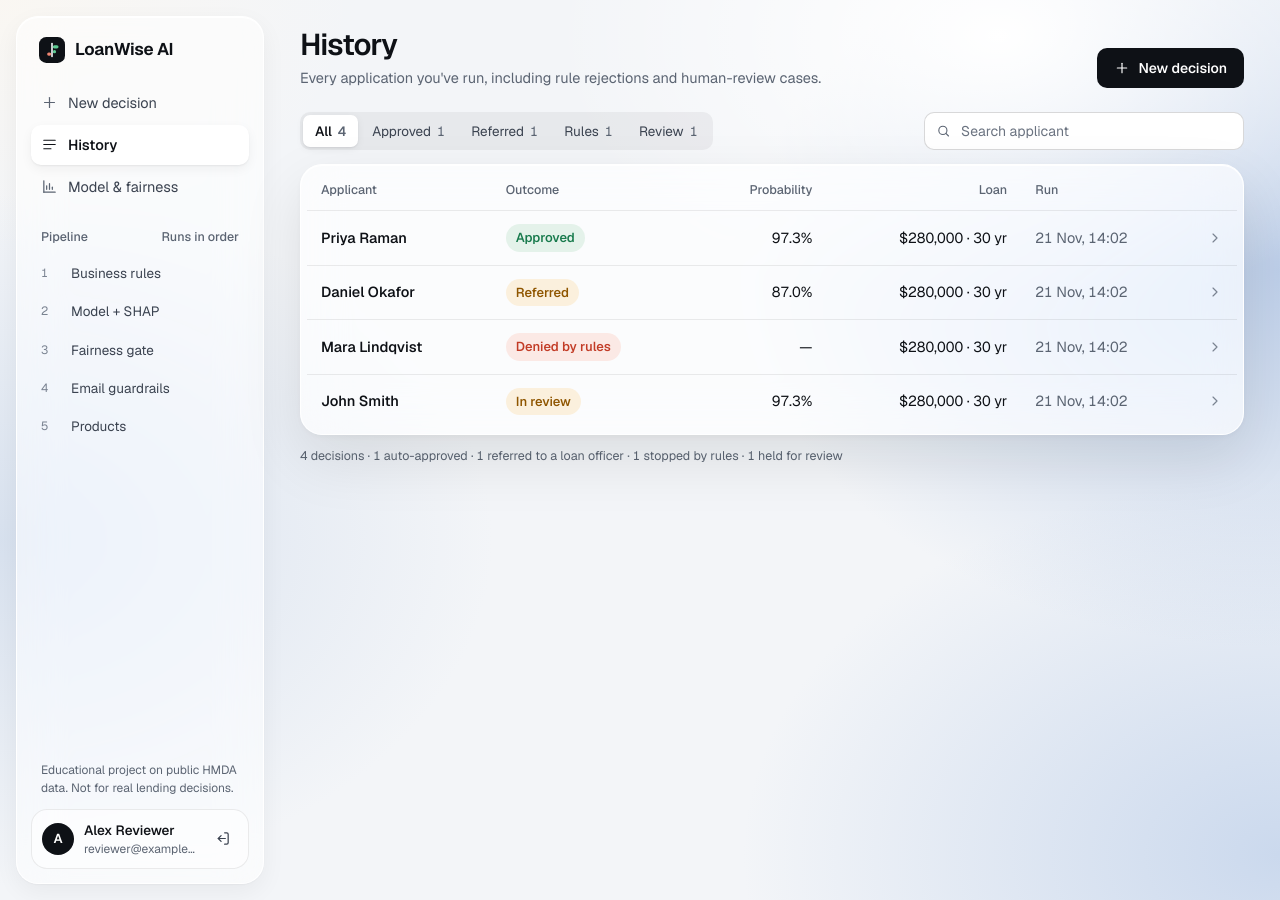
History › explains when a search matches nothing and can clear it
The width and height of the screenshot is (1280, 900).
Check: the link "Priya Raman" is shown, box [321,228,407,247]
In the search field labelled "Search applicant": (1084, 131) [924,112,1244,150], type "zzz"
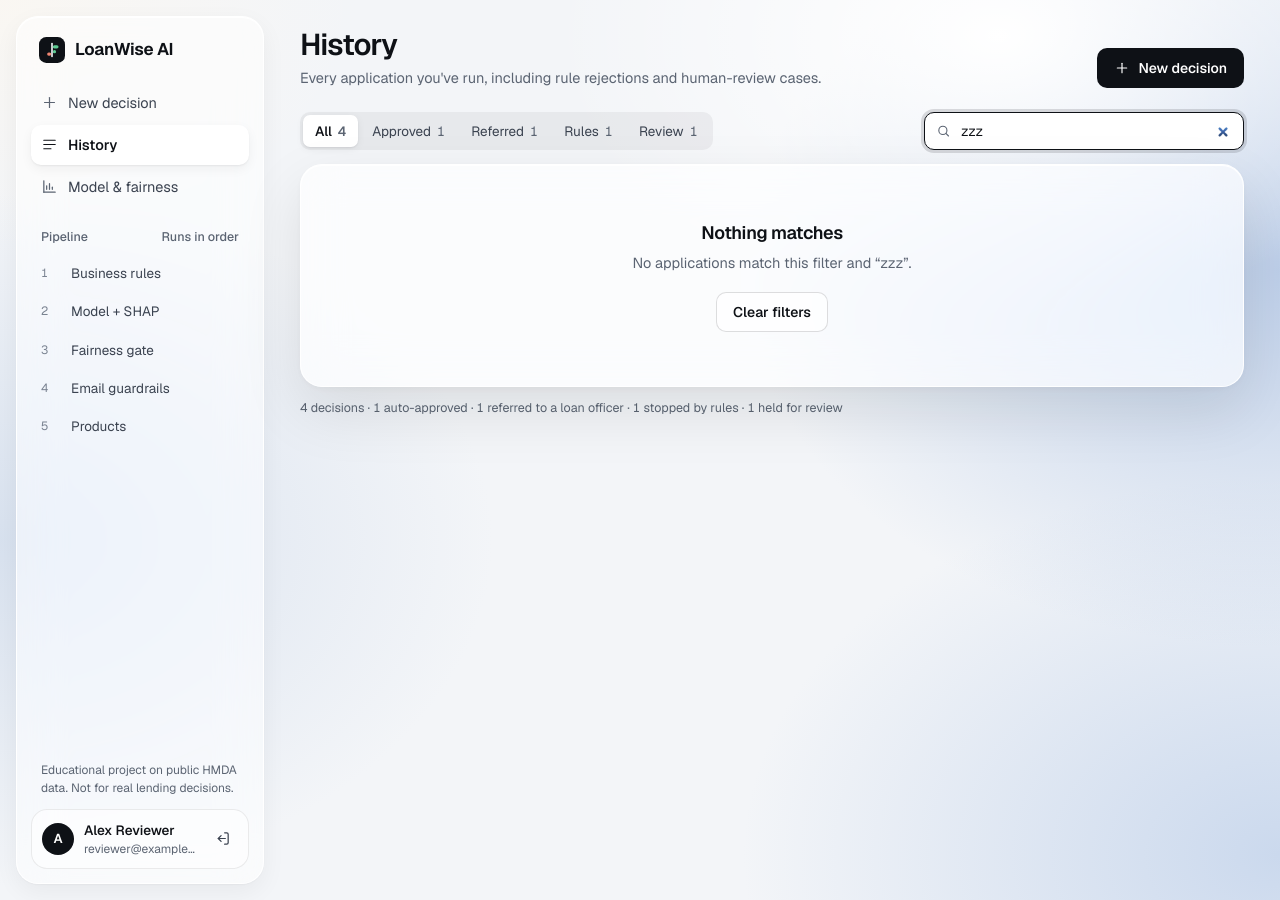
Check: the heading "Nothing matches" is shown, box [701,221,843,244]
Click the button "Clear filters": (772, 312) [716,292,828,332]
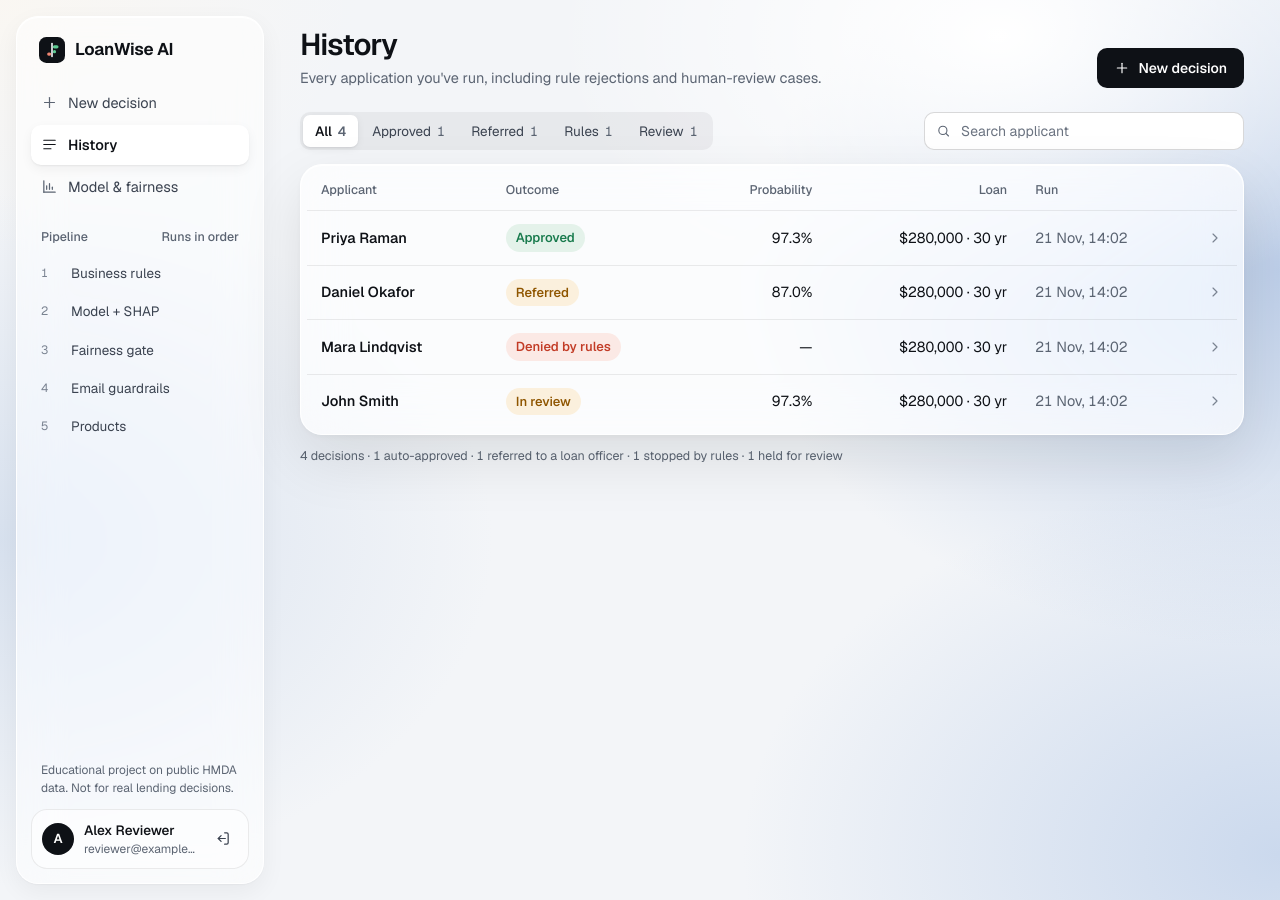
Check: the link "Priya Raman" is shown, box [321,228,407,247]
